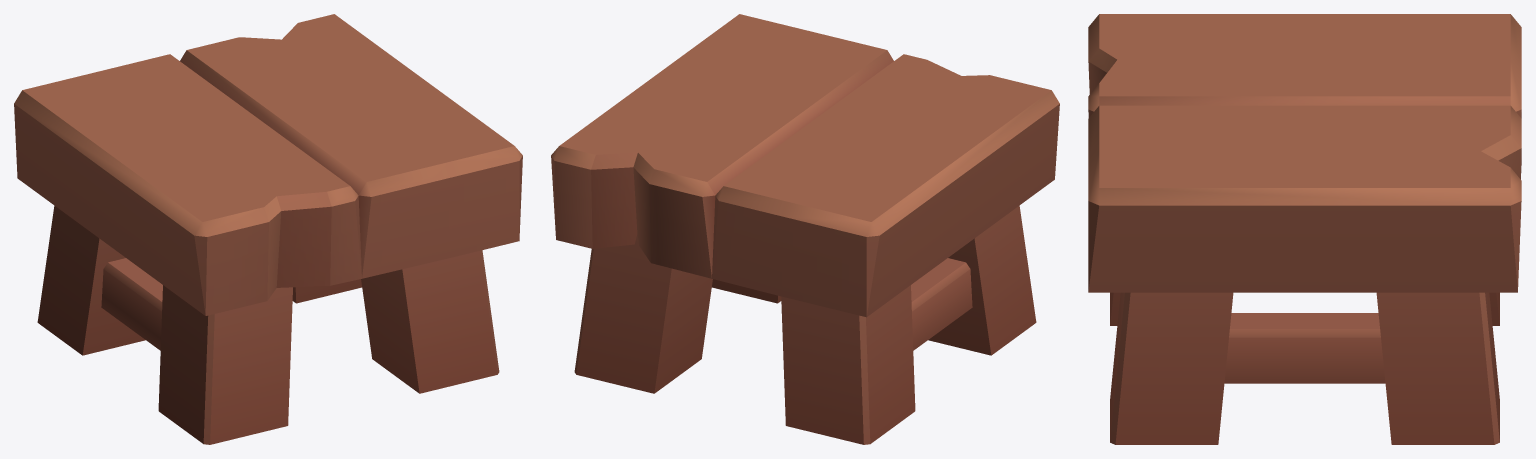
File: stool.gltf
The picture shows the model from 3 angles, left to right: view 1: azimuth 30°, elevation 25°; view 2: azimuth 150°, elevation 25°; view 3: azimuth 270°, elevation 25°; orthographic projection. The views are drawn at different scales.
Visible parts, largest first — view 1: stool; view 2: stool; view 3: stool.
Boxes of the visible parts, box(x1,y1,x2,y2) form: stool: box(14, 14, 522, 444); stool: box(551, 14, 1059, 444); stool: box(1088, 14, 1521, 444).
Size of the model in its own units: 0.75 by 0.5 by 0.75.
Materials: 1 (1 with a texture image).
